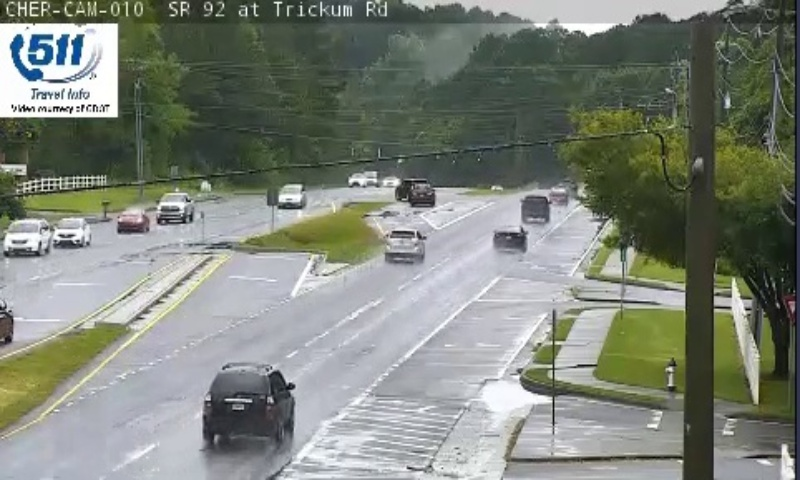car: (202, 364, 295, 433), (385, 229, 424, 259), (493, 227, 528, 252), (520, 196, 548, 218)
